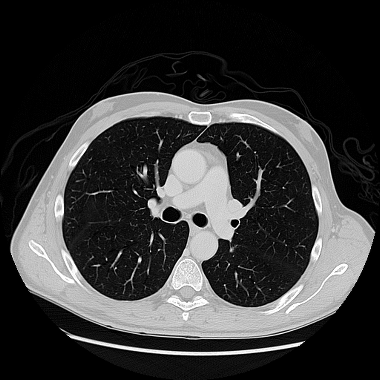nodule: (228, 247, 234, 253)
